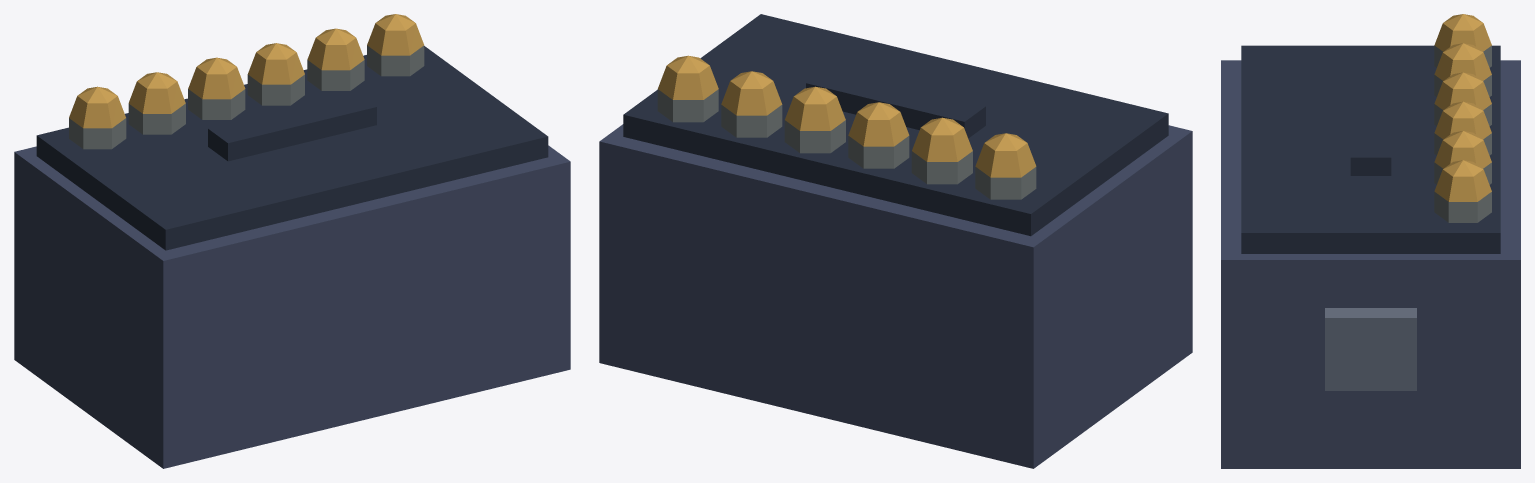
File: ce_ammo_grenade_dp_c.obj
The picture shows the model from 3 angles, left to right: view 1: azimuth 30°, elevation 25°; view 2: azimuth 150°, elevation 25°; view 3: azimuth 270°, elevation 25°; orthographic projection. The views are drawn at different scales.
Parts seen in each view (by area): view 1: ce_ammo_grenade_dp_c_0, ce_ammo_grenade_dp_c_1, ce_ammo_grenade_dp_c_2, ce_ammo_grenade_dp_c_17, ce_ammo_grenade_dp_c_5, ce_ammo_grenade_dp_c_11, ce_ammo_grenade_dp_c_14, ce_ammo_grenade_dp_c_20, ce_ammo_grenade_dp_c_8, ce_ammo_grenade_dp_c_13, ce_ammo_grenade_dp_c_19, ce_ammo_grenade_dp_c_4 (+3 smaller); view 2: ce_ammo_grenade_dp_c_0, ce_ammo_grenade_dp_c_1, ce_ammo_grenade_dp_c_2, ce_ammo_grenade_dp_c_11, ce_ammo_grenade_dp_c_17, ce_ammo_grenade_dp_c_5, ce_ammo_grenade_dp_c_20, ce_ammo_grenade_dp_c_14, ce_ammo_grenade_dp_c_8, ce_ammo_grenade_dp_c_4, ce_ammo_grenade_dp_c_7, ce_ammo_grenade_dp_c_13 (+3 smaller); view 3: ce_ammo_grenade_dp_c_0, ce_ammo_grenade_dp_c_1, ce_ammo_grenade_dp_c_3, ce_ammo_grenade_dp_c_2, ce_ammo_grenade_dp_c_20, ce_ammo_grenade_dp_c_19, ce_ammo_grenade_dp_c_5, ce_ammo_grenade_dp_c_17, ce_ammo_grenade_dp_c_14, ce_ammo_grenade_dp_c_11, ce_ammo_grenade_dp_c_8, ce_ammo_grenade_dp_c_15 (+5 smaller).
Boxes of the visible parts, left/top/right/bottom form: ce_ammo_grenade_dp_c_0: left=14, top=145, right=570, bottom=468; ce_ammo_grenade_dp_c_1: left=36, top=46, right=548, bottom=250; ce_ammo_grenade_dp_c_2: left=208, top=92, right=376, bottom=161; ce_ammo_grenade_dp_c_17: left=307, top=38, right=364, bottom=70; ce_ammo_grenade_dp_c_5: left=69, top=96, right=125, bottom=128; ce_ammo_grenade_dp_c_11: left=188, top=67, right=245, bottom=99; ce_ammo_grenade_dp_c_14: left=248, top=52, right=304, bottom=84; ce_ammo_grenade_dp_c_20: left=367, top=23, right=423, bottom=55; ce_ammo_grenade_dp_c_8: left=128, top=81, right=185, bottom=113; ce_ammo_grenade_dp_c_13: left=247, top=74, right=304, bottom=105; ce_ammo_grenade_dp_c_19: left=367, top=45, right=424, bottom=76; ce_ammo_grenade_dp_c_4: left=69, top=118, right=126, bottom=149; ce_ammo_grenade_dp_c_0: left=599, top=124, right=1192, bottom=468; ce_ammo_grenade_dp_c_1: left=623, top=14, right=1168, bottom=236; ce_ammo_grenade_dp_c_2: left=806, top=67, right=985, bottom=138; ce_ammo_grenade_dp_c_11: left=848, top=112, right=909, bottom=146; ce_ammo_grenade_dp_c_17: left=721, top=81, right=782, bottom=115; ce_ammo_grenade_dp_c_5: left=975, top=143, right=1036, bottom=177; ce_ammo_grenade_dp_c_20: left=658, top=65, right=718, bottom=99; ce_ammo_grenade_dp_c_14: left=785, top=96, right=845, bottom=130; ce_ammo_grenade_dp_c_8: left=912, top=128, right=972, bottom=161; ce_ammo_grenade_dp_c_4: left=975, top=166, right=1036, bottom=199; ce_ammo_grenade_dp_c_7: left=911, top=151, right=972, bottom=184; ce_ammo_grenade_dp_c_13: left=784, top=120, right=845, bottom=153; ce_ammo_grenade_dp_c_0: left=1221, top=60, right=1520, bottom=468; ce_ammo_grenade_dp_c_1: left=1241, top=45, right=1500, bottom=253; ce_ammo_grenade_dp_c_3: left=1325, top=308, right=1416, bottom=390; ce_ammo_grenade_dp_c_2: left=1350, top=84, right=1391, bottom=175; ce_ammo_grenade_dp_c_20: left=1434, top=169, right=1491, bottom=201; ce_ammo_grenade_dp_c_19: left=1434, top=191, right=1491, bottom=222; ce_ammo_grenade_dp_c_5: left=1434, top=23, right=1491, bottom=51; ce_ammo_grenade_dp_c_17: left=1434, top=140, right=1491, bottom=168; ce_ammo_grenade_dp_c_14: left=1434, top=111, right=1491, bottom=139; ce_ammo_grenade_dp_c_11: left=1434, top=82, right=1491, bottom=110; ce_ammo_grenade_dp_c_8: left=1434, top=52, right=1491, bottom=80; ce_ammo_grenade_dp_c_15: left=1443, top=101, right=1483, bottom=118.
Size of the model in its own units: 0.86 by 0.54 by 0.52.
